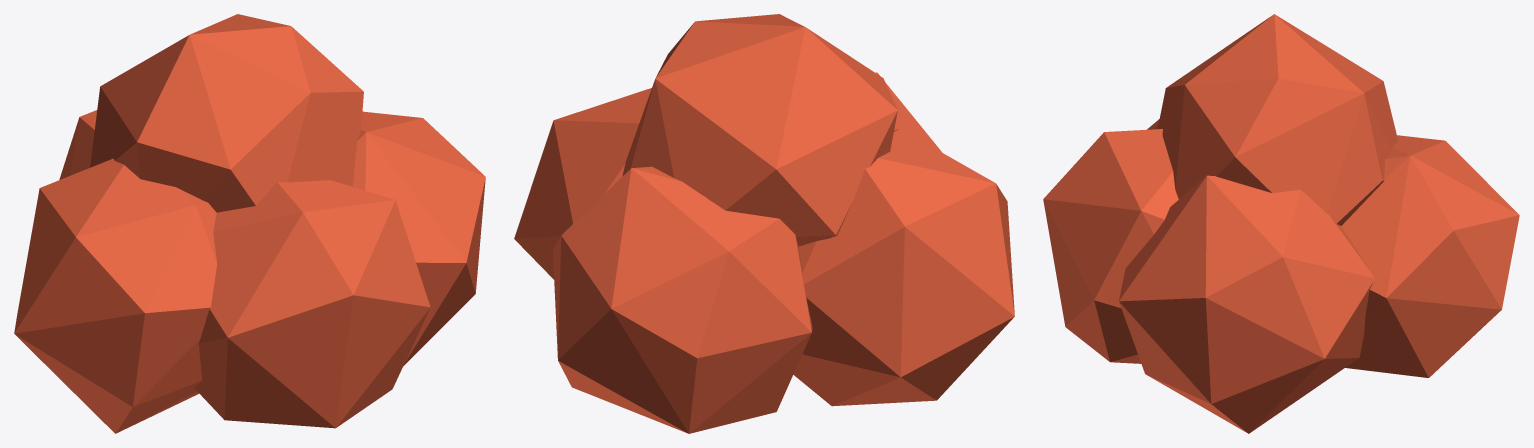
File: arbusto.FBX
3 renders of one model, left to right at view 1: azimuth 30°, elevation 25°; view 2: azimuth 150°, elevation 25°; view 3: azimuth 270°, elevation 25°, orthographic. The views are drawn at different scales.
Parts seen in each view (by area): view 1: arbusto; view 2: arbusto; view 3: arbusto.
Part boxes in pixels (left/top/right/bottom): arbusto: left=14, top=14, right=485, bottom=433; arbusto: left=514, top=14, right=1014, bottom=433; arbusto: left=1043, top=14, right=1519, bottom=433.
Size of the model in its own units: 160 by 121 by 158.
Materials: 1 (1 with a texture image).
